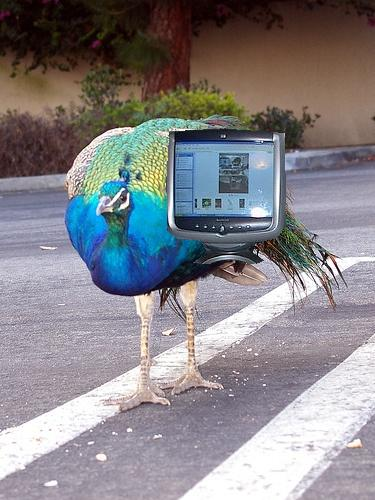tampered: (167, 129, 286, 264)
